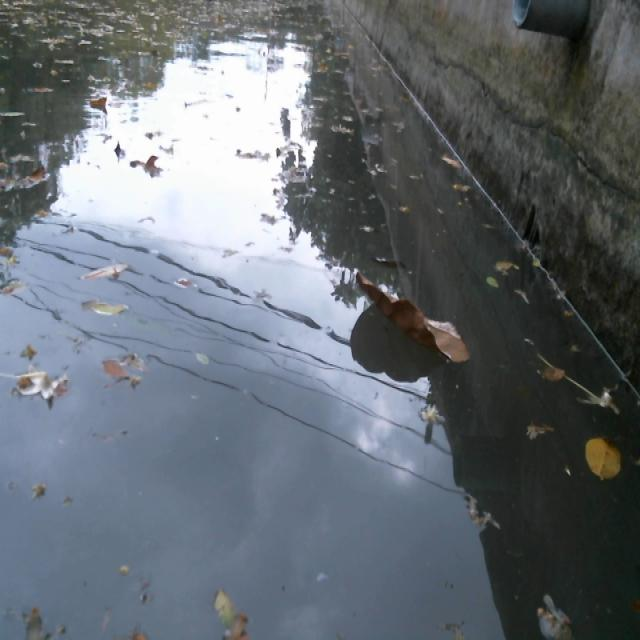Big-leaf: (344, 264, 474, 367)
Small-leaf: (12, 364, 71, 408), (581, 425, 624, 484), (525, 594, 579, 640), (72, 255, 140, 289), (128, 143, 165, 184), (75, 294, 136, 318), (19, 600, 52, 640), (0, 269, 35, 305), (96, 353, 135, 385), (18, 159, 54, 193), (209, 582, 238, 624), (219, 608, 257, 640), (367, 251, 414, 276), (535, 362, 574, 388), (0, 234, 24, 271), (80, 89, 112, 115), (492, 256, 525, 279), (437, 152, 469, 175), (189, 344, 214, 368), (110, 146, 134, 162), (478, 269, 500, 286)
